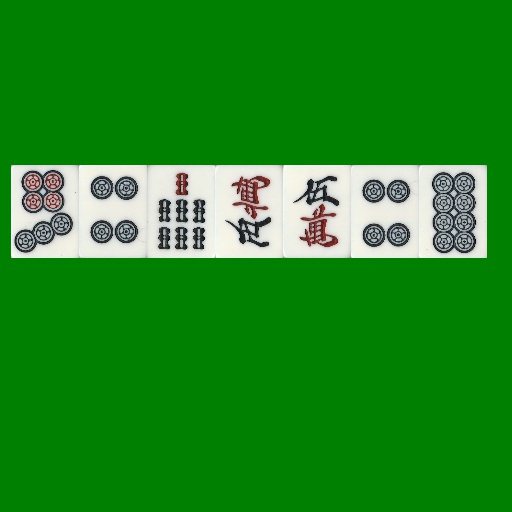4p: (79, 165, 147, 258), (351, 165, 419, 258)
5m: (215, 165, 283, 258), (283, 165, 351, 258)
7p: (11, 165, 79, 258)
7s: (147, 165, 215, 258)
8p: (419, 165, 487, 258)
